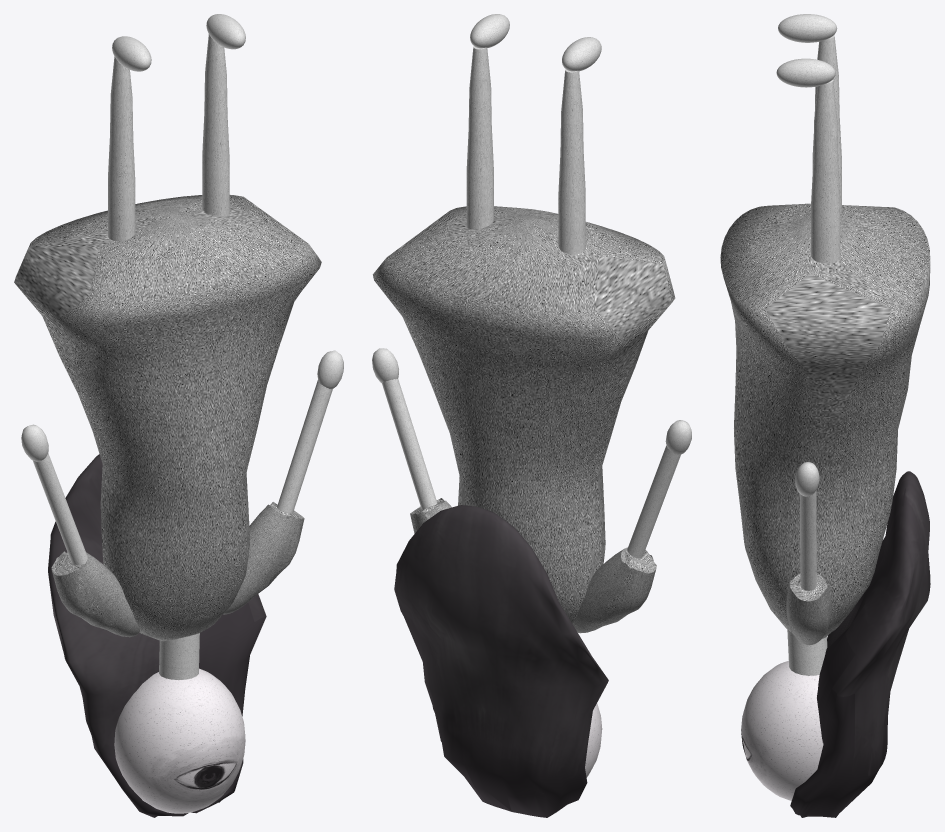
The model's file is girl.FBX.
3 views of the same model, side by side, from view 1: azimuth 30°, elevation 25°; view 2: azimuth 150°, elevation 25°; view 3: azimuth 270°, elevation 25° (orthographic). The views are drawn at different scales.
Parts seen in each view (by area): view 1: Cylinder005; view 2: Cylinder005; view 3: Cylinder005.
Part boxes in pixels (left/top/right/bottom): Cylinder005: left=14, top=14, right=343, bottom=817; Cylinder005: left=372, top=14, right=691, bottom=817; Cylinder005: left=720, top=14, right=930, bottom=817.
Size of the model in its own units: 14.74 by 34.4 by 8.57.
7 materials, 7 textured.
